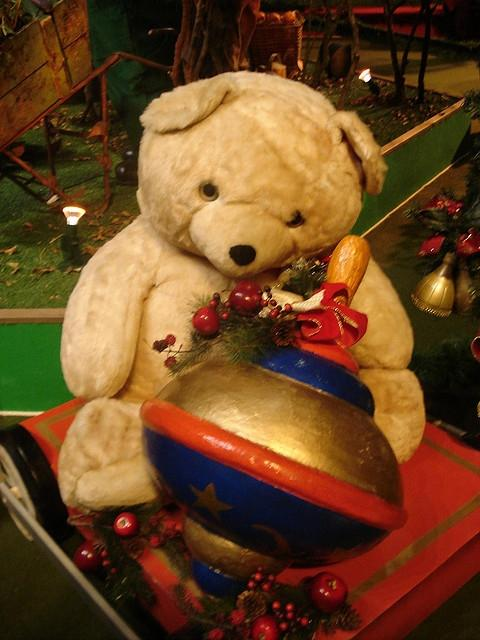apple: (306, 571, 348, 614), (228, 280, 264, 317), (73, 540, 102, 572), (192, 306, 220, 336), (114, 512, 140, 538)
